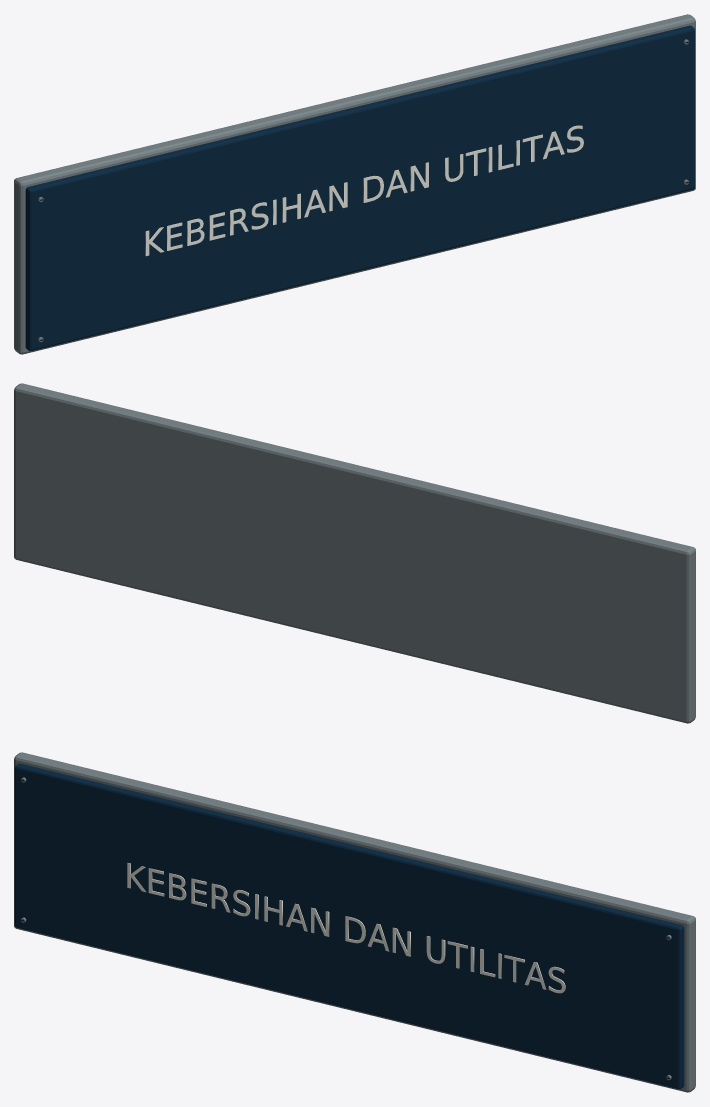
The model's file is OAA_Papan_Ruang_Kebersihan_dan_Utilitas.fbx.
3 renders of one model, top to bottom at view 1: azimuth 30°, elevation 25°; view 2: azimuth 150°, elevation 25°; view 3: azimuth 330°, elevation 25°, orthographic.
Visible parts, largest first — view 1: Body; view 2: Body; view 3: Body.
Part boxes in pixels (x1,y1,x2,y2): Body: [14, 14, 695, 354]; Body: [14, 383, 695, 723]; Body: [14, 752, 695, 1092].
Bounding box in the file's own units: 0.9 × 0.22 × 0.0312.
